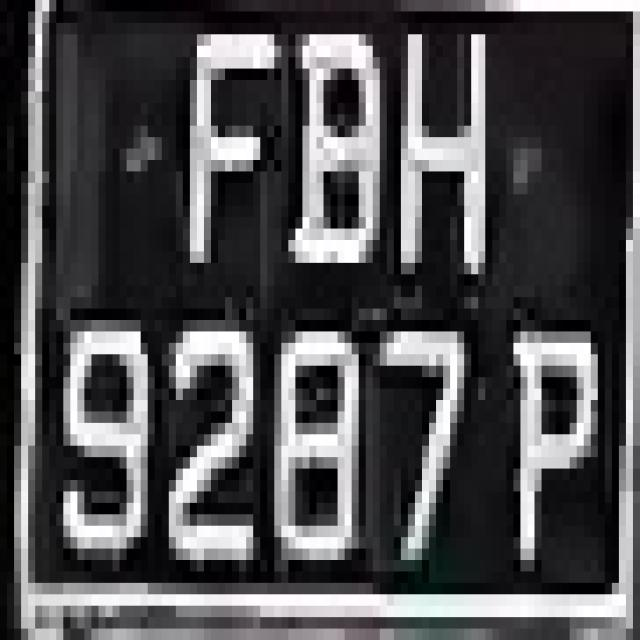2: (155, 297, 253, 594)
7: (359, 286, 471, 560)
8: (267, 308, 366, 572)
9: (42, 274, 155, 560)
B: (274, 12, 394, 308)
F: (176, 23, 274, 274)
H: (387, 12, 499, 297)
P: (499, 297, 605, 606)
